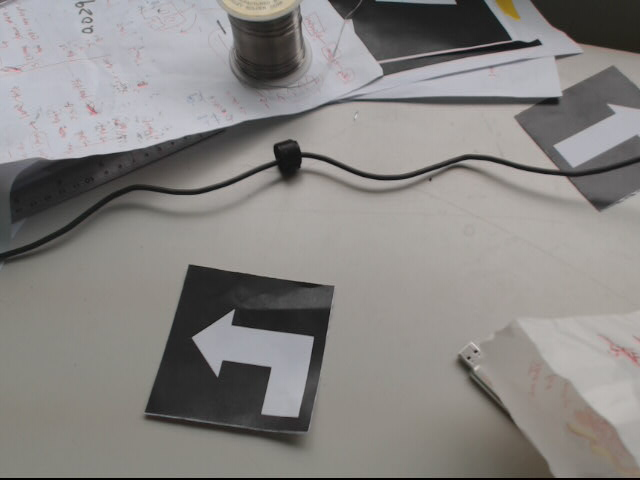left: (146, 261, 334, 431)
